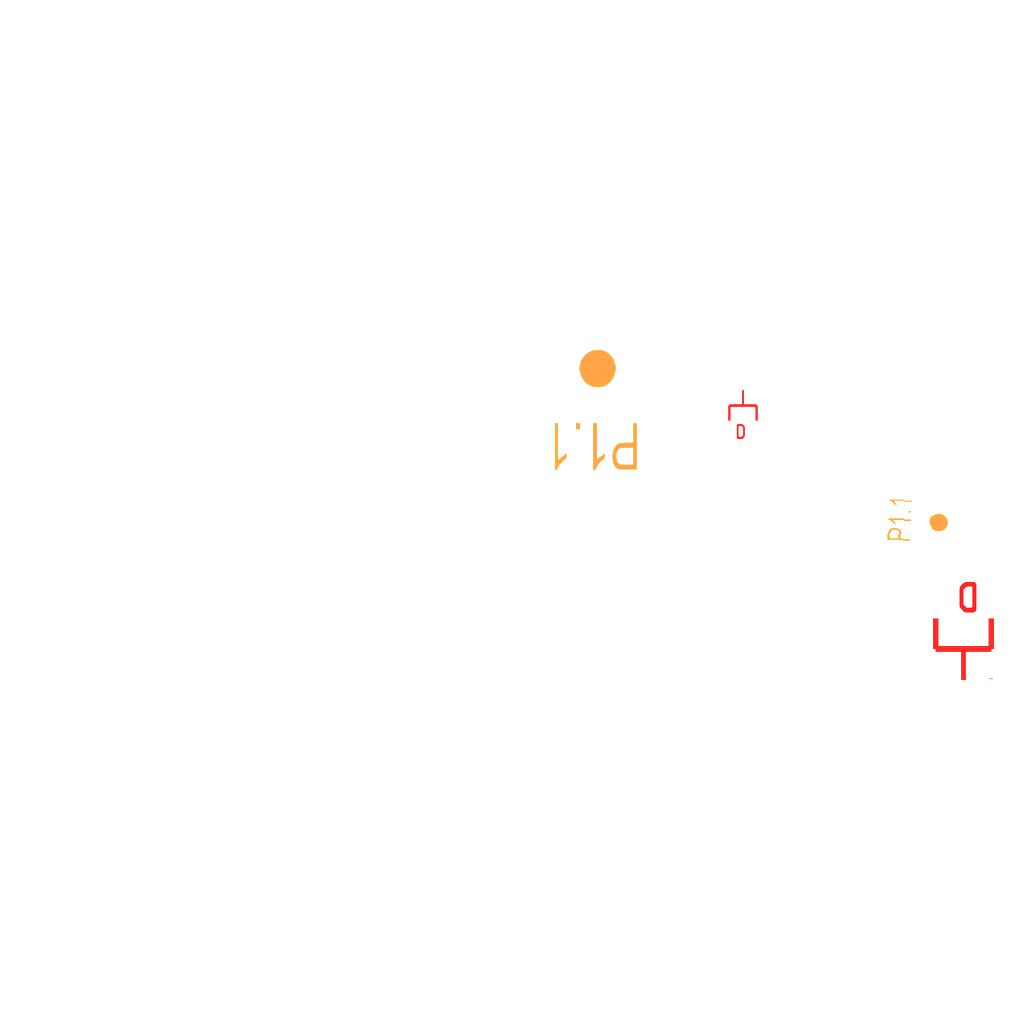Datenanschluss_einfach: (929, 582, 998, 682), (726, 389, 760, 439)
Downlight_LED_Einbauleuchten_Flur: (548, 346, 641, 474), (885, 495, 951, 545)
